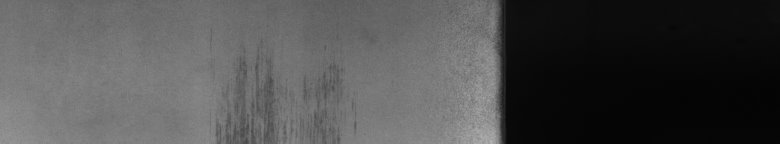ka: (216, 64, 293, 136)
